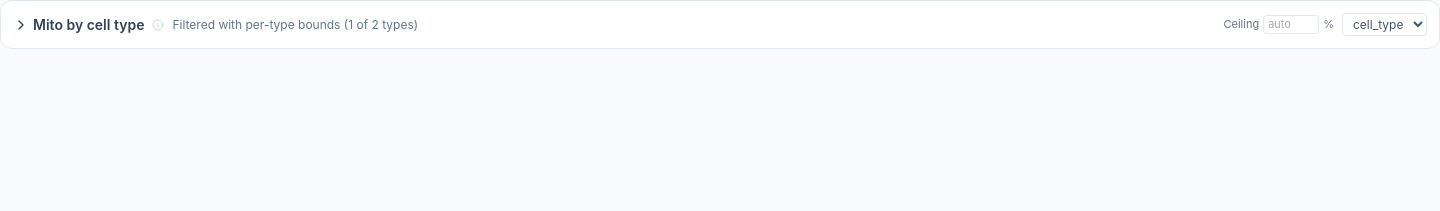
the floor on the Mito by cell type card › shows what each type's own bound removes when never stricter, and which bound filtering used
The width and height of the screenshot is (1440, 211).
Click the button "Mito by cell type". click: (79, 24)
box: left=13, top=14, right=144, bottom=34
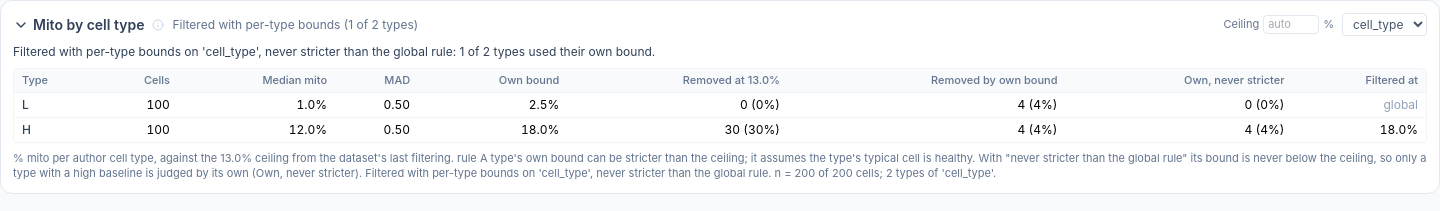
Now the text "Filtered with per-type bounds on 'cell_type', never stricter than the global rule." is shown, box left=365, top=166, right=772, bottom=180
